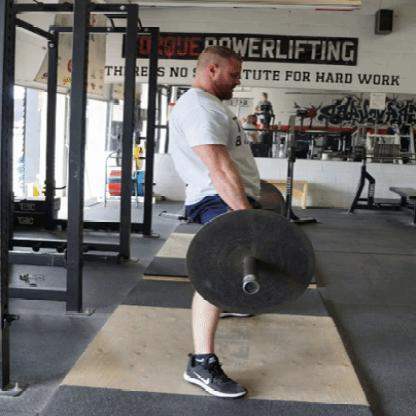Barbell: (179, 203, 320, 318)
